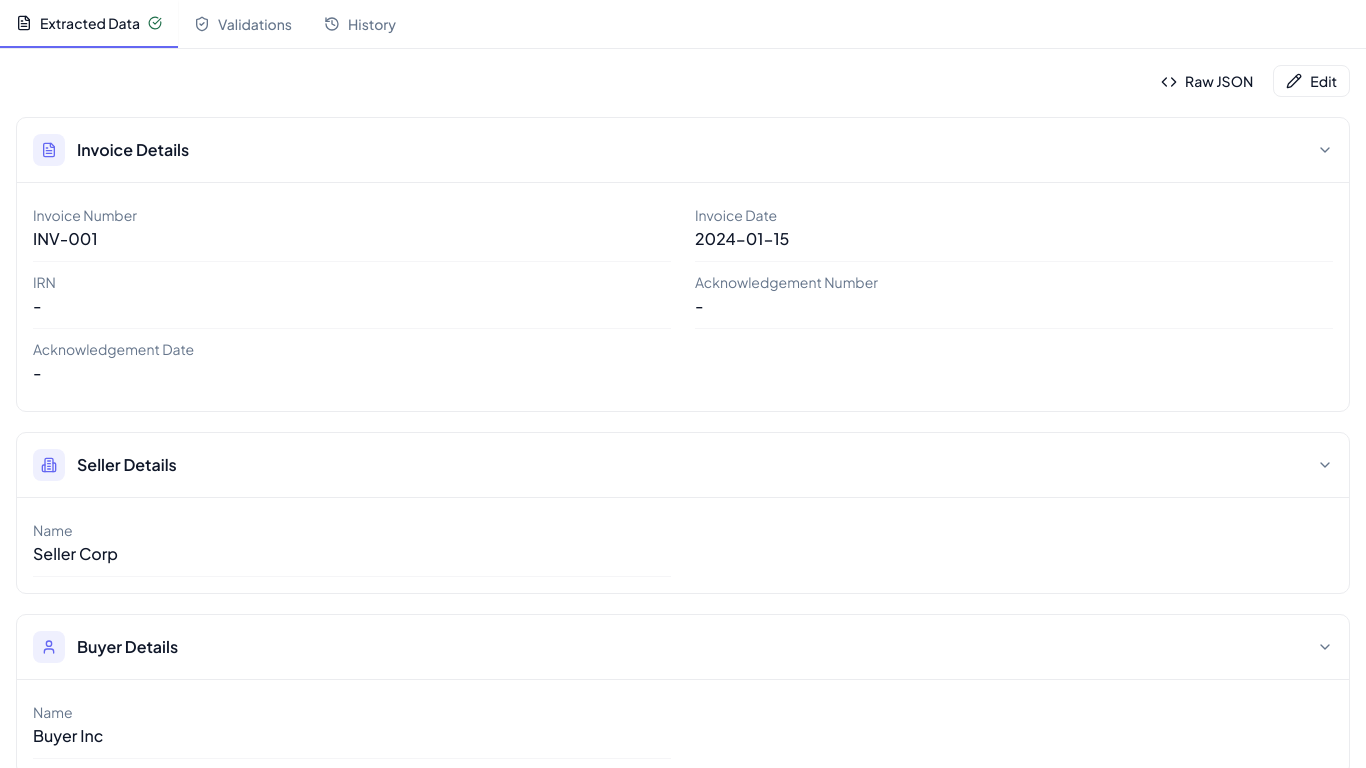
Test case: DocumentTabs › unsaved changes guard › shows discard dialog when Cancel is clicked with unsaved changes
# Enter edit mode and make a change
Click the button "Edit": point(1312, 81) [1273, 65, 1350, 97]
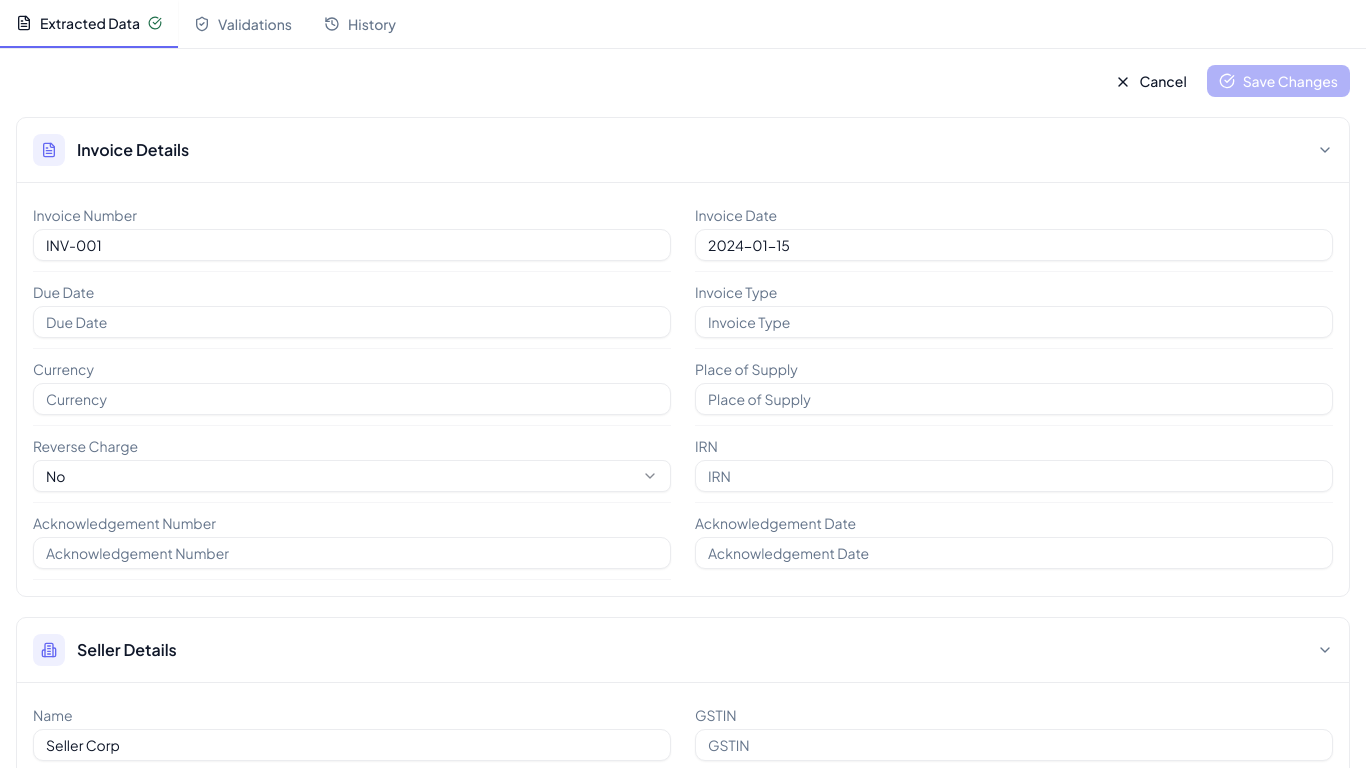
Replace the text in the field with placeholder "Invoice Number" below "Invoice Number" with "CHANGED": point(352, 245) [33, 229, 671, 261]
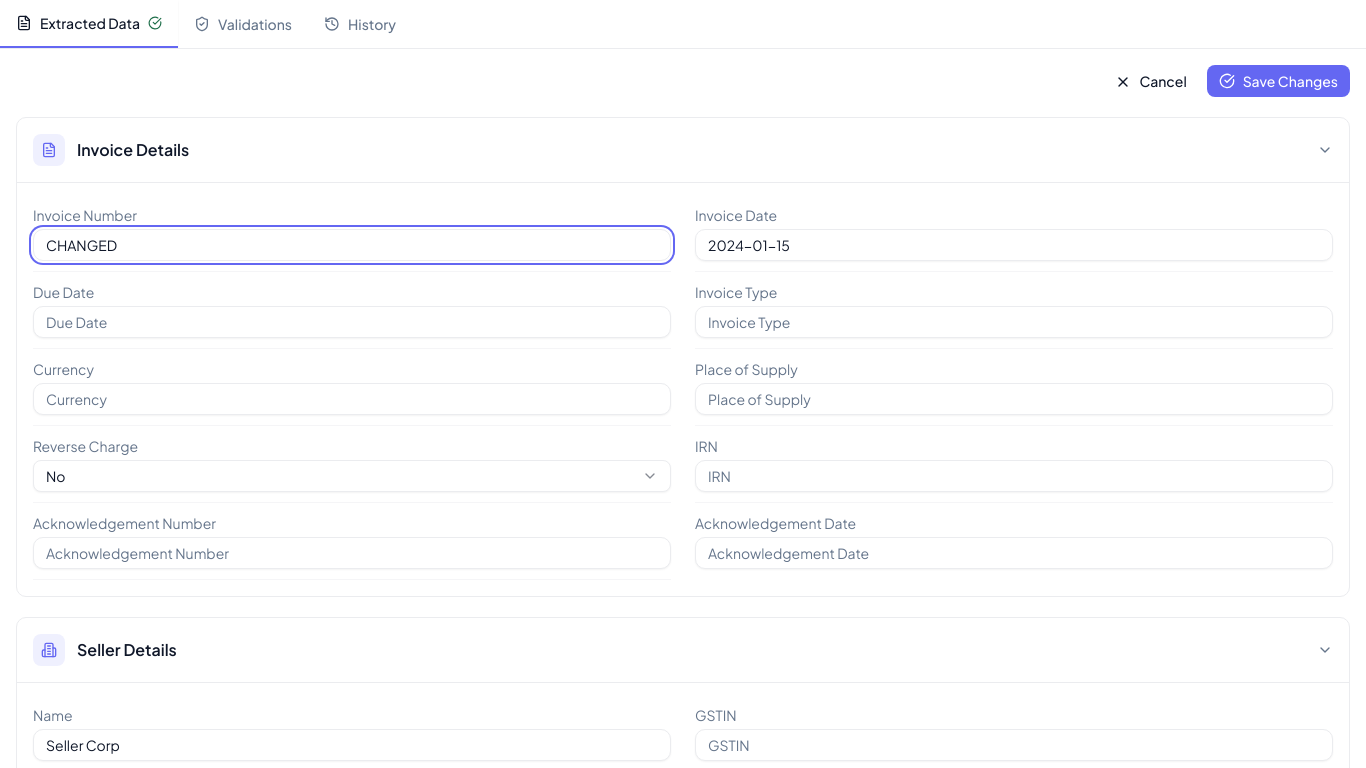
# Click cancel
Click the button "Cancel": point(1151, 81) [1103, 65, 1199, 97]
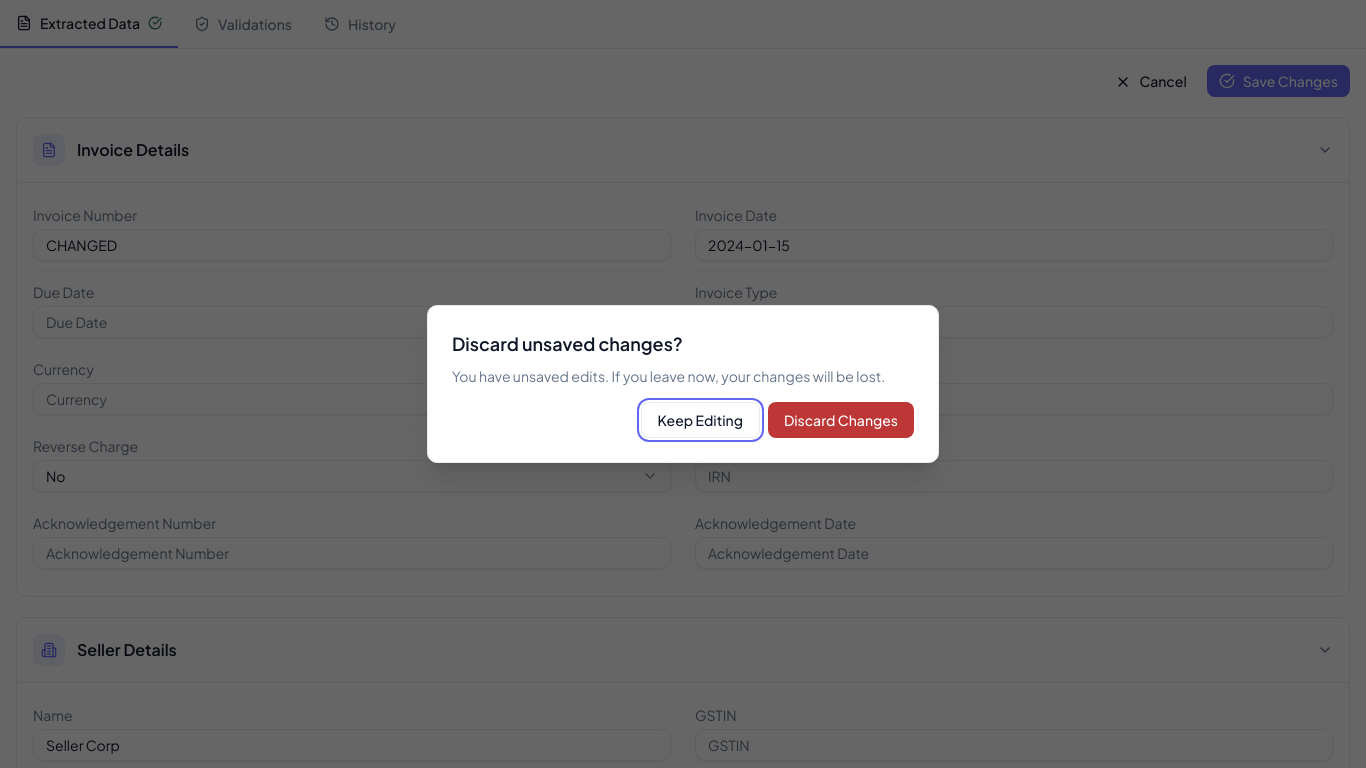
Now the heading "Discard unsaved changes?" is shown, box [452, 332, 683, 355]
